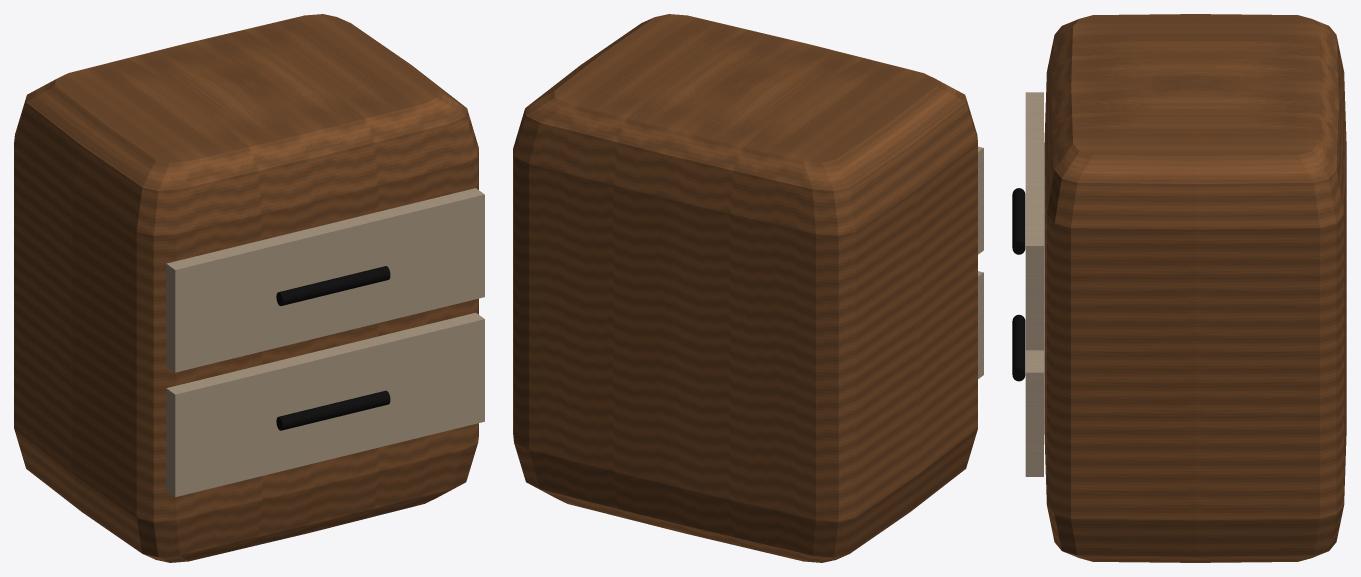
The model's file is nightstand_lod1.glb.
The picture shows the model from 3 angles, left to right: view 1: azimuth 30°, elevation 25°; view 2: azimuth 150°, elevation 25°; view 3: azimuth 270°, elevation 25°; orthographic projection.
Visible parts, largest first — view 1: body, drawer_1, drawer_2, handle_1, handle_2; view 2: body, drawer_2, drawer_1; view 3: body, drawer_2, drawer_1, handle_1, handle_2.
Part boxes in pixels (x1,y1,x2,y2): body: (14, 14, 478, 562); drawer_1: (166, 312, 484, 497); drawer_2: (166, 188, 484, 372); handle_1: (276, 390, 390, 430); handle_2: (276, 266, 390, 305); body: (513, 14, 977, 562); drawer_2: (978, 146, 983, 254); drawer_1: (978, 271, 983, 378); body: (1044, 14, 1346, 562); drawer_2: (1025, 92, 1043, 350); drawer_1: (1025, 350, 1043, 476); handle_1: (1012, 314, 1025, 381); handle_2: (1012, 188, 1025, 254).
Bounding box in the file's own units: 0.55 × 0.62 × 0.45.
Materials: 3 (3 with a texture image).
